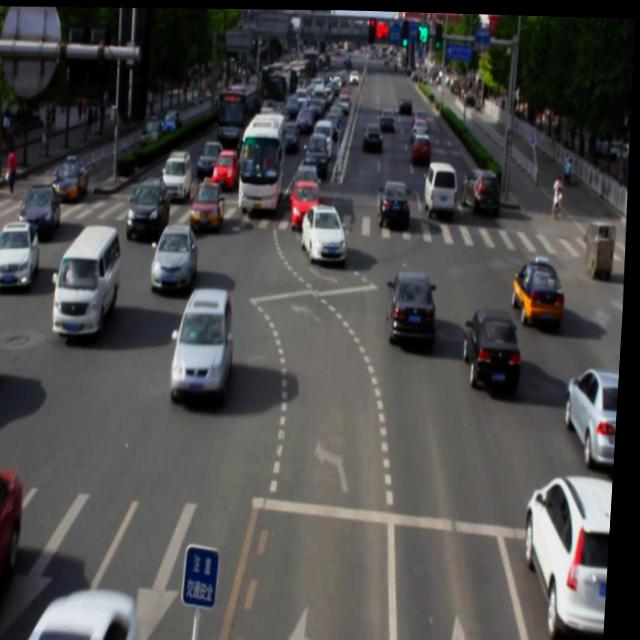car: (523, 467, 619, 631), (170, 281, 240, 402), (33, 586, 145, 640), (564, 362, 624, 459), (463, 301, 526, 390), (0, 462, 32, 612), (387, 267, 439, 342), (513, 254, 567, 320), (152, 220, 200, 291), (301, 204, 350, 264), (128, 175, 172, 241)
truck: (53, 221, 127, 336)
